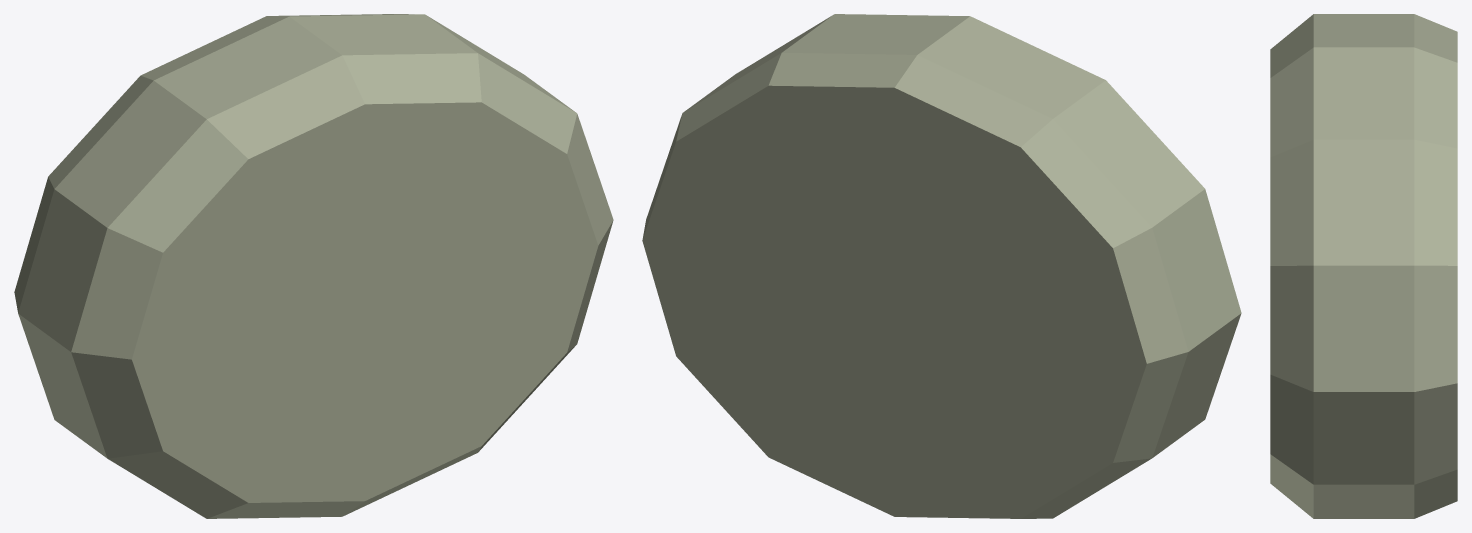
The model's file is centipede_segment_4.obj.
3 renders of one model, left to right at view 1: azimuth 30°, elevation 25°; view 2: azimuth 150°, elevation 25°; view 3: azimuth 270°, elevation 25°, orthographic. The views are drawn at different scales.
Parts seen in each view (by area): view 1: centipede_segment_4; view 2: centipede_segment_4; view 3: centipede_segment_4.
Part boxes in pixels (box(x1,y1,x2,y2)): centipede_segment_4: box(14, 14, 613, 518); centipede_segment_4: box(642, 14, 1241, 518); centipede_segment_4: box(1270, 14, 1457, 518).
Bounding box in the file's own units: 1.24 × 1.01 × 0.39.
